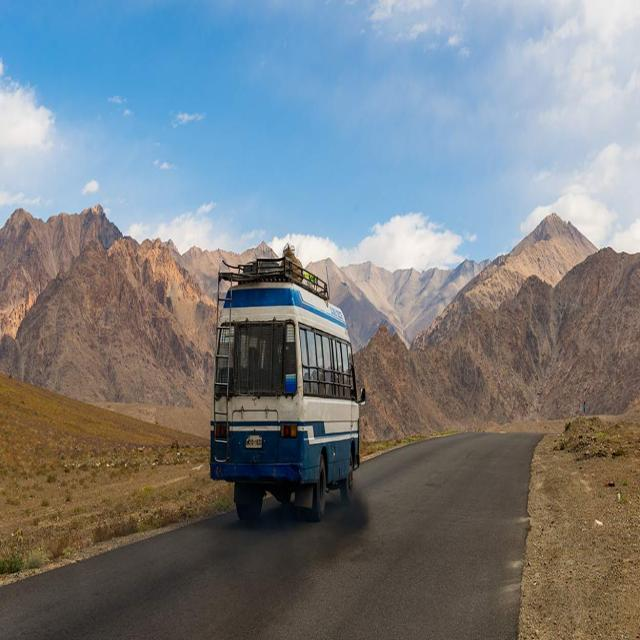bus: (210, 245, 366, 520)
